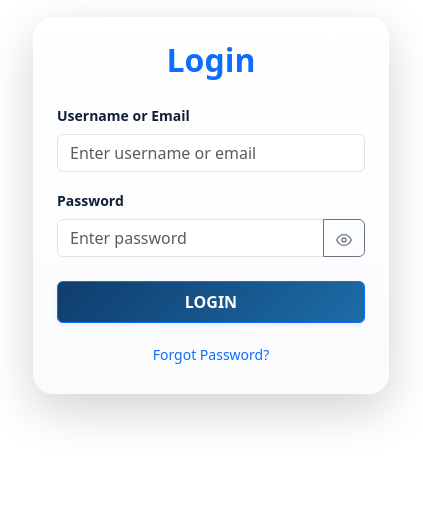
Test: Login › rejects an invalid email before sending the login request
Step 1. Type "marta@" into the field labelled "Username or Email" → (211, 153), box 57,134 -> 365,172
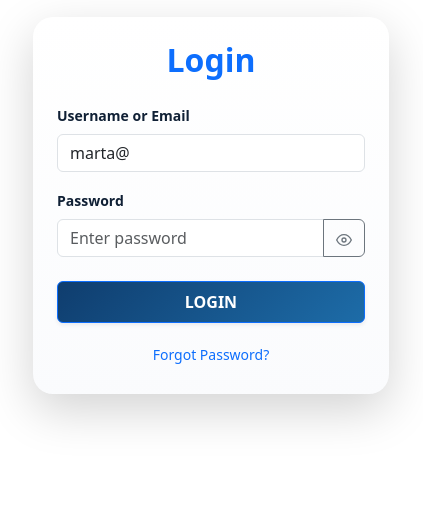
Step 2. Type "secret123" into the password field labelled "Password" → (190, 238), box 57,219 -> 324,257
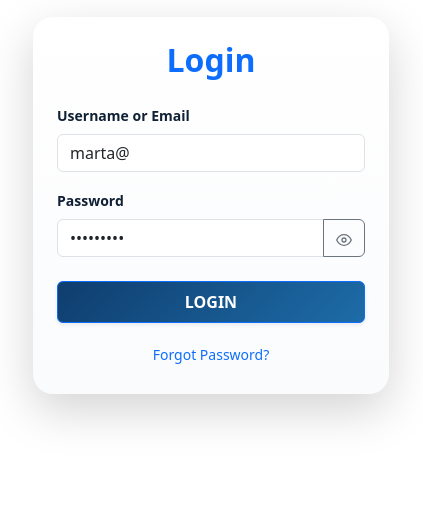
Step 3. Click the button "LOGIN" → (211, 302), box 57,281 -> 365,323
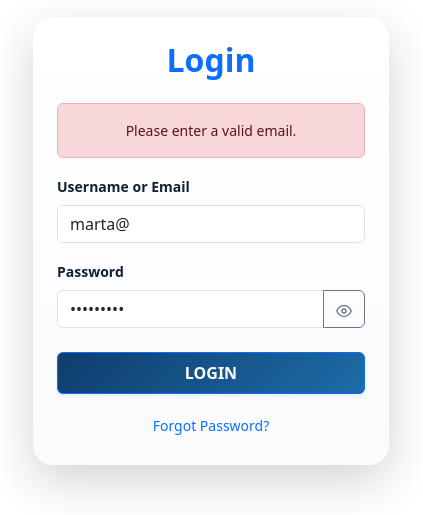
Expected: the text "Please enter a valid email." is shown, 57,103 -> 365,158
